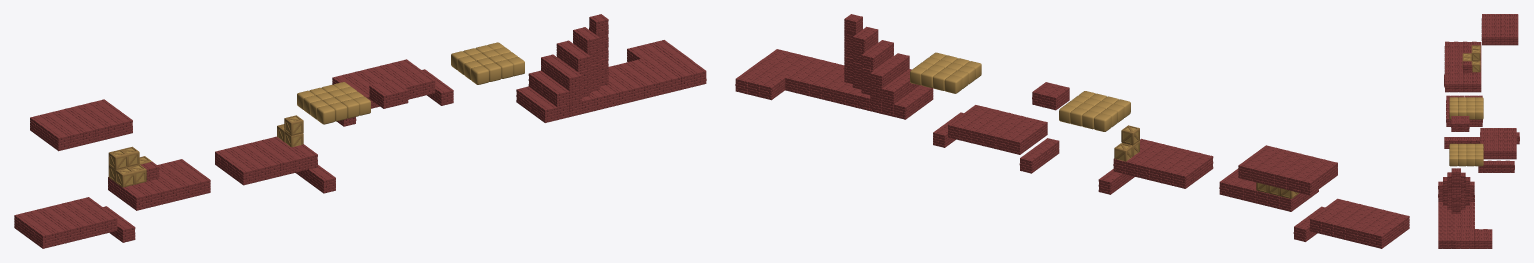
Rendered from BlockPlatform.glb.
3 views of the same model, side by side, from view 1: azimuth 30°, elevation 25°; view 2: azimuth 150°, elevation 25°; view 3: azimuth 270°, elevation 25° (orthographic). The views are drawn at different scales.
Visible parts, largest first — view 1: no part large enough to name; view 2: no part large enough to name; view 3: Cube_Bricks.102, Cube_Bricks.029, Cube_Bricks.053, Cube_Bricks.101, Cube_Bricks.104, Cube_Bricks.189, Cube_Bricks.121, Cube_Bricks.122, Cube_Bricks.251, Cube_Bricks.237, Cube_Bricks.240, Cube_Bricks.242 (+39 smaller).
Boxes of the visible parts, x1,y1,x2,y2 form: Cube_Bricks.102: [1507, 147, 1516, 159]; Cube_Bricks.029: [1472, 80, 1481, 92]; Cube_Bricks.053: [1509, 33, 1518, 45]; Cube_Bricks.101: [1498, 147, 1507, 159]; Cube_Bricks.104: [1489, 147, 1498, 159]; Cube_Bricks.189: [1451, 168, 1460, 180]; Cube_Bricks.121: [1451, 119, 1460, 131]; Cube_Bricks.122: [1460, 119, 1469, 131]; Cube_Bricks.251: [1438, 236, 1447, 248]; Cube_Bricks.237: [1496, 160, 1505, 172]; Cube_Bricks.240: [1505, 160, 1514, 172]; Cube_Bricks.242: [1487, 160, 1496, 172].
Bounding box in the file's own units: 93.69 × 13.52 × 15.86.
